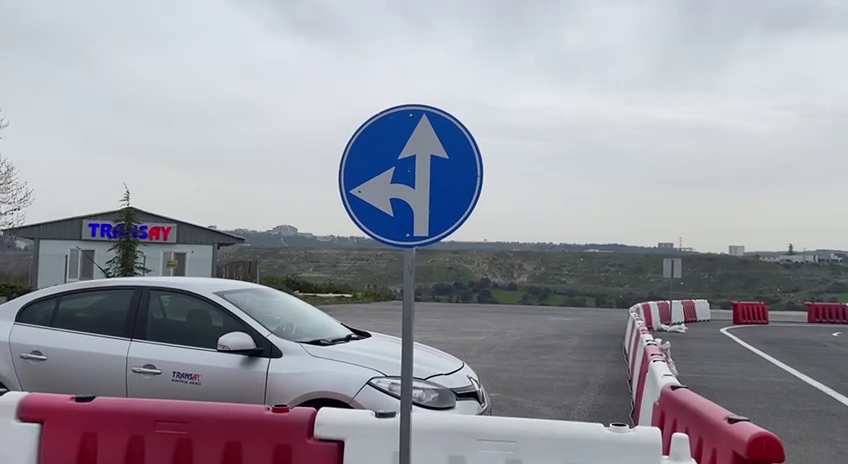forwardAndLeft: (334, 102, 485, 248)
